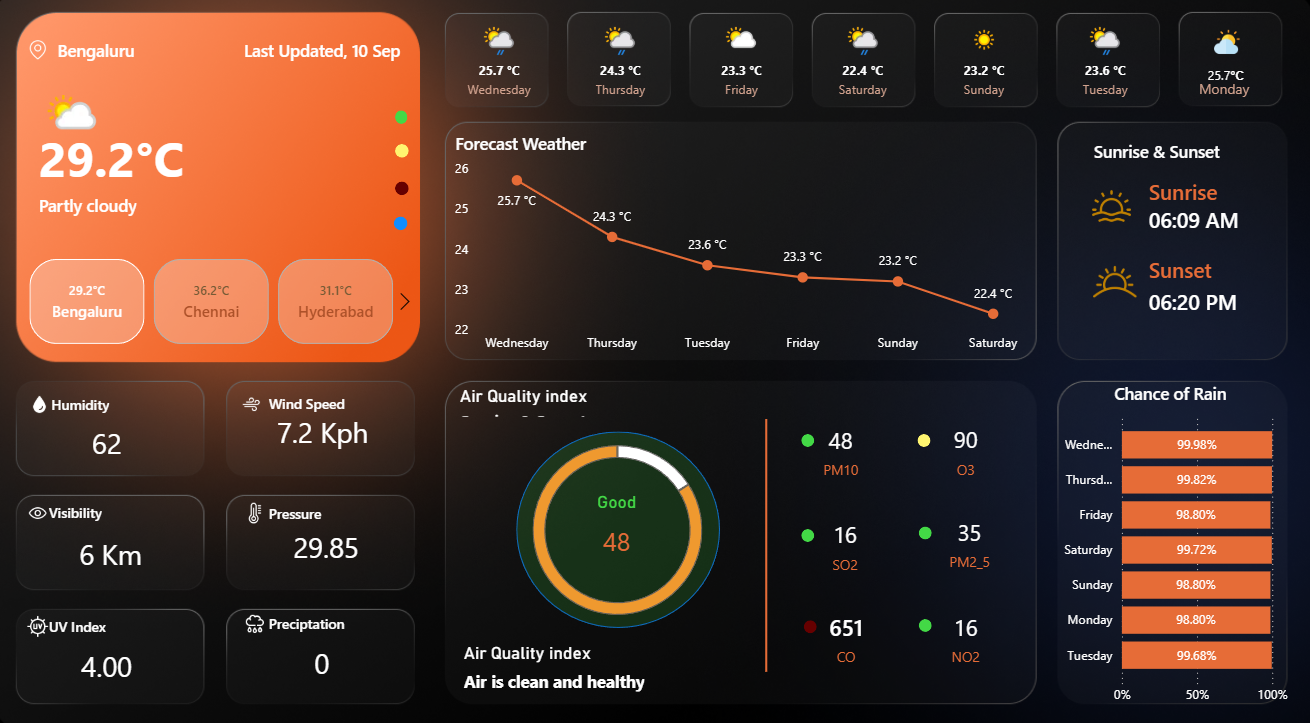

What the dashboard file says about the page in this screenshot:
{"tool":"powerbi","page":{"name":"Page 1","canvas":[1280,720],"ordinal":0},"visuals":[{"type":"shape","box":[507.7,426.8,196.6,189.7],"z":0},{"type":"advancedSlicerVisual","fields":{"Values":["Location.location.name"]},"box":[12.9,255.7,402.9,92.9],"z":1000},{"type":"shape","box":[47.1,111.4,201.4,102.9],"z":2000},{"type":"shape","box":[47.1,181.4,122.9,55.7],"z":3000},{"type":"shape","box":[65.7,31.4,104.3,55.7],"z":4000},{"type":"shape","box":[237.1,31.4,165.7,55.7],"z":5000},{"type":"image","box":[27.1,44.3,38.6,28.6],"z":6000},{"type":"cardVisual","fields":{"Data":["Min(Current.current.condition.icon)"]},"box":[26.5,73.6,106.2,102.5],"z":7000},{"type":"image","box":[12.1,491,67.6,30.2],"z":8000},{"type":"shape","box":[56.7,493.4,72.4,24.1],"z":9000},{"type":"shape","box":[56.7,602,103.8,25.3],"z":10000},{"type":"shape","box":[59.1,387.3,67.6,27.7],"z":11000},{"type":"shape","box":[269,387.3,89.3,25.3],"z":12000},{"type":"shape","box":[269,493.4,103.8,25.3],"z":13000},{"type":"shape","box":[269,599.6,103.8,25.3],"z":14000},{"type":"image","box":[30.2,387.3,35,27.7],"z":15000},{"type":"image","box":[235.3,387.3,33.8,27.7],"z":16000},{"type":"image","box":[21.7,599.6,48.3,31.4],"z":17000},{"type":"image","box":[235.3,491,41,30.2],"z":18000},{"type":"image","box":[223.2,597.2,65.1,31.4],"z":19000},{"type":"card","fields":{"Values":["Sum(Current.current.humidity)"]},"box":[76.7,412.8,71.1,54.4],"z":20000},{"type":"card","fields":{"Values":["_Measures.Wind_Speed"]},"box":[270.6,401.7,101.8,54.4],"z":21000},{"type":"card","fields":{"Values":["Sum(Current.current.pressure_in)"]},"box":[276.1,506.3,96.2,66.9],"z":22000},{"type":"card","fields":{"Values":["Sum(Current.current.precip_in)"]},"box":[284.5,624.8,71.1,54.4],"z":23000},{"type":"card","fields":{"Values":["Sum(Current.current.uv)"]},"box":[76.7,627.6,71.1,54.4],"z":24000},{"type":"card","fields":{"Values":["_Measures.Visibility"]},"box":[72.5,521.6,87.9,51.6],"z":25000},{"type":"advancedSlicerVisual","fields":{"Values":["Forecast_day.Day_Name"]},"box":[432.3,25.1,825.6,86.5],"z":26000},{"type":"lineChart","title":"Forecast Weather","fields":{"Y":["Sum(Forecast_day.forecast.forecastday.day.avgtemp_c)"],"Category":["Forecast_day.Day_Name"]},"box":[443.5,138.1,566.2,221.7],"z":27000},{"type":"shape","box":[1065.5,138.1,161.8,37.7],"z":28000},{"type":"shape","box":[1118.5,189.7,161.8,65.5],"z":29000},{"type":"shape","box":[1118.5,269.2,161.8,65.5],"z":30000},{"type":"shape","box":[1118.5,163.2,161.8,65.5],"z":31000},{"type":"shape","box":[1118.5,237.1,161.8,65.5],"z":32000},{"type":"image","box":[1055.7,185.5,53,47.4],"z":33000},{"type":"image","box":[1051.6,249.6,66.9,65.5],"z":34000},{"type":"hundredPercentStackedBarChart","title":"Chance of Rain","fields":{"Y":["Sum(Forecast_hour.forecast.forecastday.hour.chance_of_rain)","Current.Left_Value_rain"],"Category":["Forecast_day.Day_Name"]},"box":[1020.9,379.3,237.1,320.8],"z":35000},{"type":"image","box":[1160.3,33.5,66.9,34.9],"z":36000},{"type":"textbox","box":[1170.1,68.3,110.2,108.8],"z":37000},{"type":"textbox","box":[1161.7,82.3,75.3,29.3],"z":38000},{"type":"shape","title":"Air Quality index","box":[453.3,382.1,152,30.7],"z":39000},{"type":"card","fields":{"Values":["Sum(Current.current.air_quality.co)"]},"box":[790.8,594.1,72.5,65.5],"z":40000},{"type":"card","fields":{"Values":["Sum(Current.current.air_quality.o3)"]},"box":[895.4,412.8,93.4,65.5],"z":41000},{"type":"card","fields":{"Values":["Sum(Current.current.air_quality.pm10)"]},"box":[774,412.8,93.4,66.9],"z":42000},{"type":"card","fields":{"Values":["Sum(Current.current.air_quality.so2)"]},"box":[782.4,504.9,85.1,65.5],"z":43000},{"type":"card","fields":{"Values":["Sum(Current.current.air_quality.pm2_5)"]},"box":[902.3,502.1,86.5,65.5],"z":44000},{"type":"card","fields":{"Values":["Sum(Current.current.air_quality.no2)"]},"box":[895.4,594.1,93.4,65.5],"z":45000},{"type":"shape","box":[673.6,415.6,152,244.1],"z":46000},{"type":"shape","box":[782.4,429.6,12.6,12.6],"z":47000},{"type":"shape","box":[785.2,609.5,12.6,12.6],"z":48000},{"type":"shape","box":[782.4,521.6,12.6,12.6],"z":49000},{"type":"shape","box":[895.4,429.6,12.6,12.6],"z":50000},{"type":"shape","box":[896.8,518.8,12.6,12.6],"z":51000},{"type":"shape","box":[896.8,608.1,12.6,12.6],"z":52000},{"type":"card","fields":{"Values":["Sum(Current.current.air_quality.pm10)"]},"box":[550.9,485.3,107.4,80.9],"z":53000},{"type":"donutChart","fields":{"Y":["Sum(Current.current.air_quality.pm10)","_Measures.Left_value_PM"]},"box":[457.4,415.6,297.1,214.8],"z":54000},{"type":"shape","title":"Air Quality index","box":[457.4,630.4,280.3,48.8],"z":55000},{"type":"shape","box":[390.9,117,12.1,13.3],"z":56000},{"type":"shape","box":[390.9,149.6,13.3,13.3],"z":56001},{"type":"shape","box":[390.9,185.8,13.3,13.3],"z":56002},{"type":"shape","box":[389.7,219.6,13.3,13.3],"z":56003}]}

Visuals, with their boxes in screenshot pixels (x1, y1, x2, y2), scaled from the page's 1280x720 canvas onto the 1310x723 screenshot:
shape: (left=520, top=429, right=721, bottom=619)
advancedSlicerVisual - Location.location.name: (left=13, top=257, right=426, bottom=350)
shape: (left=48, top=112, right=254, bottom=215)
shape: (left=48, top=182, right=174, bottom=238)
shape: (left=67, top=32, right=174, bottom=87)
shape: (left=243, top=32, right=412, bottom=87)
image: (left=28, top=44, right=67, bottom=73)
cardVisual - Min(Current.current.condition.icon): (left=27, top=74, right=136, bottom=177)
image: (left=12, top=493, right=82, bottom=523)
shape: (left=58, top=495, right=132, bottom=520)
shape: (left=58, top=605, right=164, bottom=630)
shape: (left=60, top=389, right=130, bottom=417)
shape: (left=275, top=389, right=367, bottom=414)
shape: (left=275, top=495, right=382, bottom=521)
shape: (left=275, top=602, right=382, bottom=628)
image: (left=31, top=389, right=67, bottom=417)
image: (left=241, top=389, right=275, bottom=417)
image: (left=22, top=602, right=72, bottom=634)
image: (left=241, top=493, right=283, bottom=523)
image: (left=228, top=600, right=295, bottom=631)
card - Sum(Current.current.humidity): (left=78, top=415, right=151, bottom=469)
card - _Measures.Wind_Speed: (left=277, top=403, right=381, bottom=458)
card - Sum(Current.current.pressure_in): (left=283, top=508, right=381, bottom=576)
card - Sum(Current.current.precip_in): (left=291, top=627, right=364, bottom=682)
card - Sum(Current.current.uv): (left=78, top=630, right=151, bottom=685)
card - _Measures.Visibility: (left=74, top=524, right=164, bottom=576)
advancedSlicerVisual - Forecast_day.Day_Name: (left=442, top=25, right=1287, bottom=112)
"Forecast Weather" lineChart: (left=454, top=139, right=1033, bottom=361)
shape: (left=1090, top=139, right=1256, bottom=177)
shape: (left=1145, top=190, right=1309, bottom=256)
shape: (left=1145, top=270, right=1309, bottom=336)
shape: (left=1145, top=164, right=1309, bottom=230)
shape: (left=1145, top=238, right=1309, bottom=304)
image: (left=1080, top=186, right=1135, bottom=234)
image: (left=1076, top=251, right=1145, bottom=316)
"Chance of Rain" hundredPercentStackedBarChart: (left=1045, top=381, right=1287, bottom=703)
image: (left=1187, top=34, right=1256, bottom=69)
textbox: (left=1198, top=69, right=1309, bottom=178)
textbox: (left=1189, top=83, right=1266, bottom=112)
"Air Quality index" shape: (left=464, top=384, right=619, bottom=415)
card - Sum(Current.current.air_quality.co): (left=809, top=597, right=884, bottom=662)
card - Sum(Current.current.air_quality.o3): (left=916, top=415, right=1012, bottom=480)
card - Sum(Current.current.air_quality.pm10): (left=792, top=415, right=888, bottom=482)
card - Sum(Current.current.air_quality.so2): (left=801, top=507, right=888, bottom=573)
card - Sum(Current.current.air_quality.pm2_5): (left=923, top=504, right=1012, bottom=570)
card - Sum(Current.current.air_quality.no2): (left=916, top=597, right=1012, bottom=662)
shape: (left=689, top=417, right=845, bottom=662)
shape: (left=801, top=431, right=814, bottom=444)
shape: (left=804, top=612, right=816, bottom=625)
shape: (left=801, top=524, right=814, bottom=536)
shape: (left=916, top=431, right=929, bottom=444)
shape: (left=918, top=521, right=931, bottom=534)
shape: (left=918, top=611, right=931, bottom=623)
card - Sum(Current.current.air_quality.pm10): (left=564, top=487, right=674, bottom=569)
donutChart - Sum(Current.current.air_quality.pm10) x _Measures.Left_value_PM: (left=468, top=417, right=772, bottom=633)
"Air Quality index" shape: (left=468, top=633, right=755, bottom=682)
shape: (left=400, top=117, right=412, bottom=131)
shape: (left=400, top=150, right=414, bottom=164)
shape: (left=400, top=187, right=414, bottom=200)
shape: (left=399, top=221, right=412, bottom=234)
